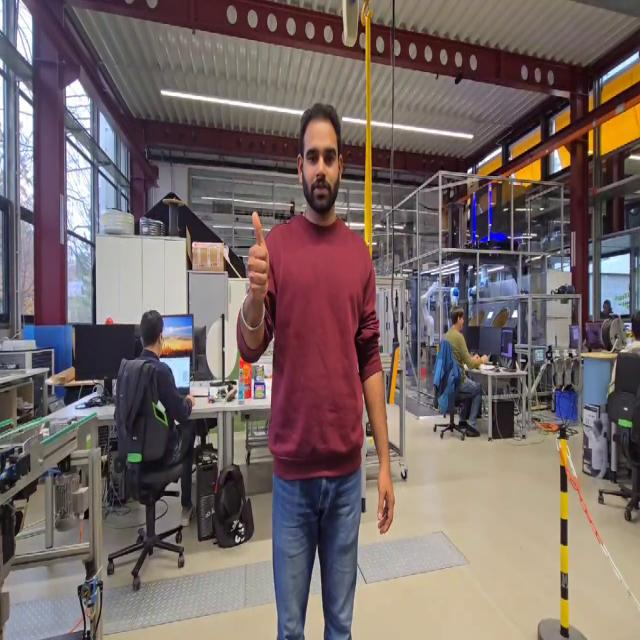thumbs_up: (243, 206, 273, 310)
